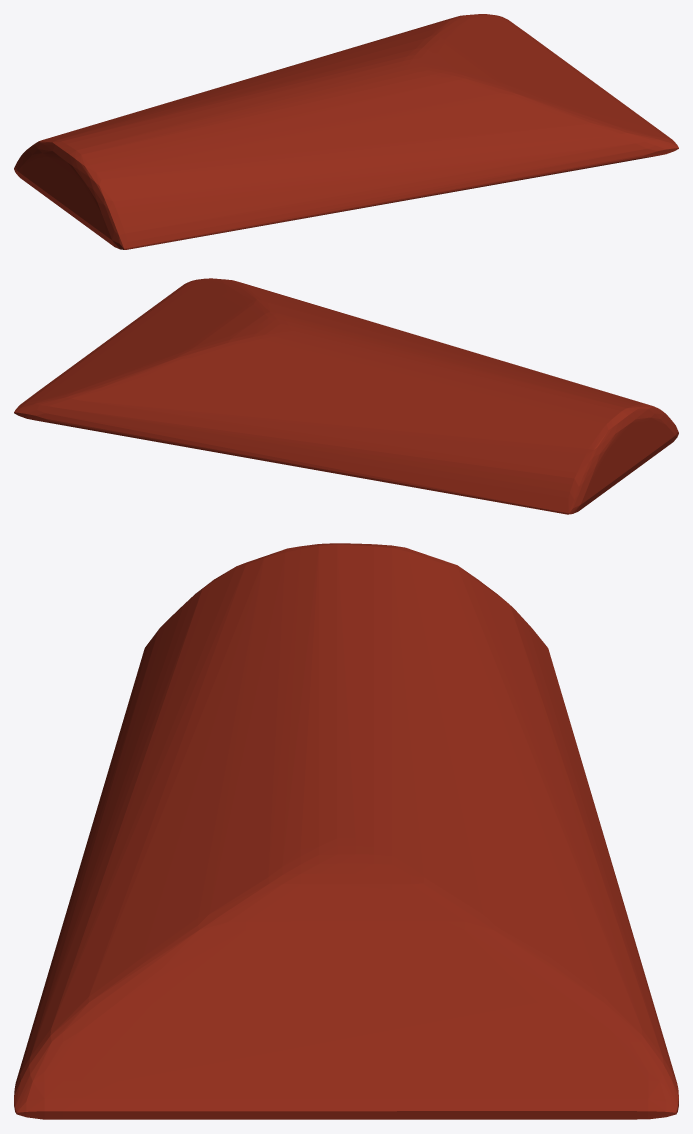
The model's file is left-tarsus-0_part_15.obj.
The picture shows the model from 3 angles, top to bottom: view 1: azimuth 30°, elevation 25°; view 2: azimuth 150°, elevation 25°; view 3: azimuth 270°, elevation 25°; orthographic projection. The views are drawn at different scales.
Bounding box in the file's own units: 0.0947 × 0.0113 × 0.0566.
